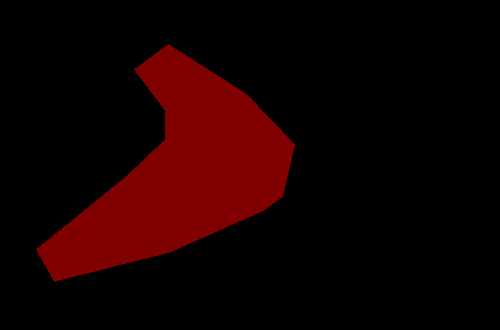fire: (36, 44, 294, 281)
